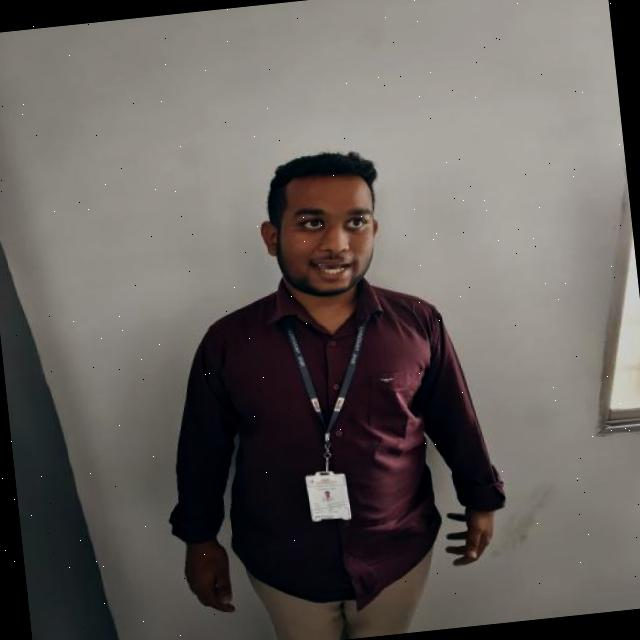Card: (306, 471, 350, 521)
Id strap: (284, 319, 367, 439)
